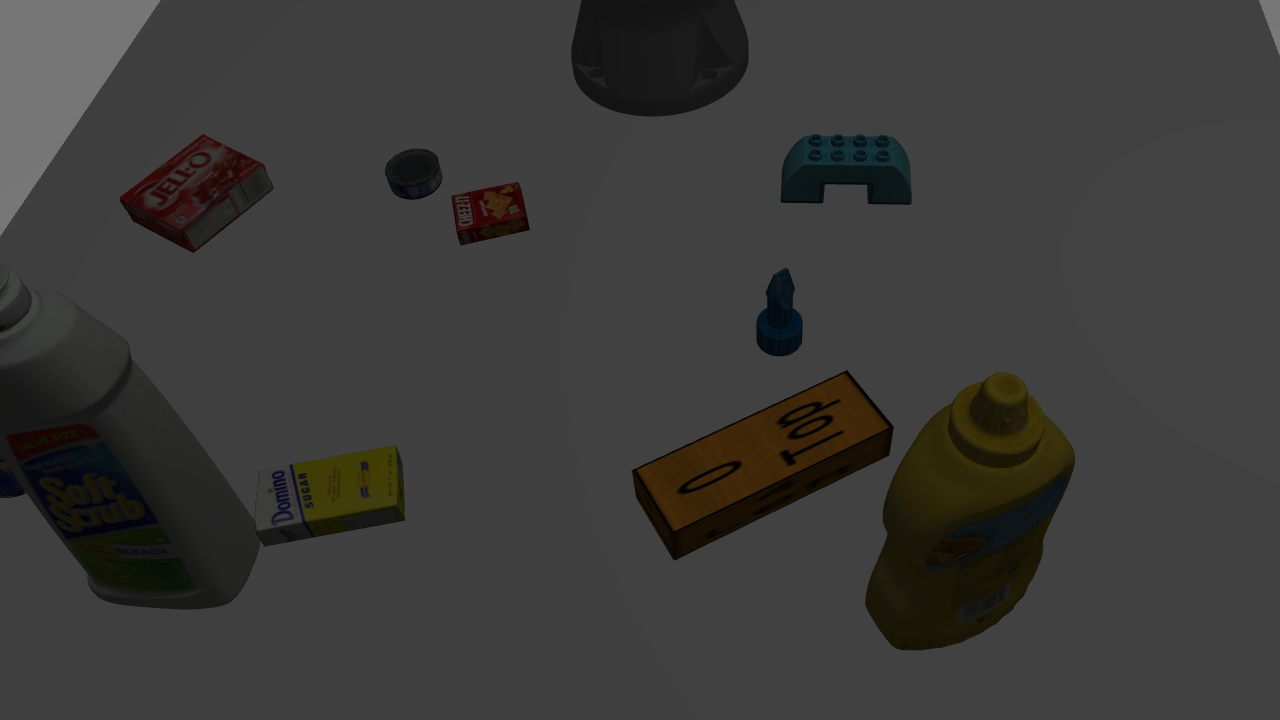gelatin_box: (119, 133, 261, 252)
jenga: (641, 376, 881, 552)
mustard_bottle: (862, 374, 1066, 661)
